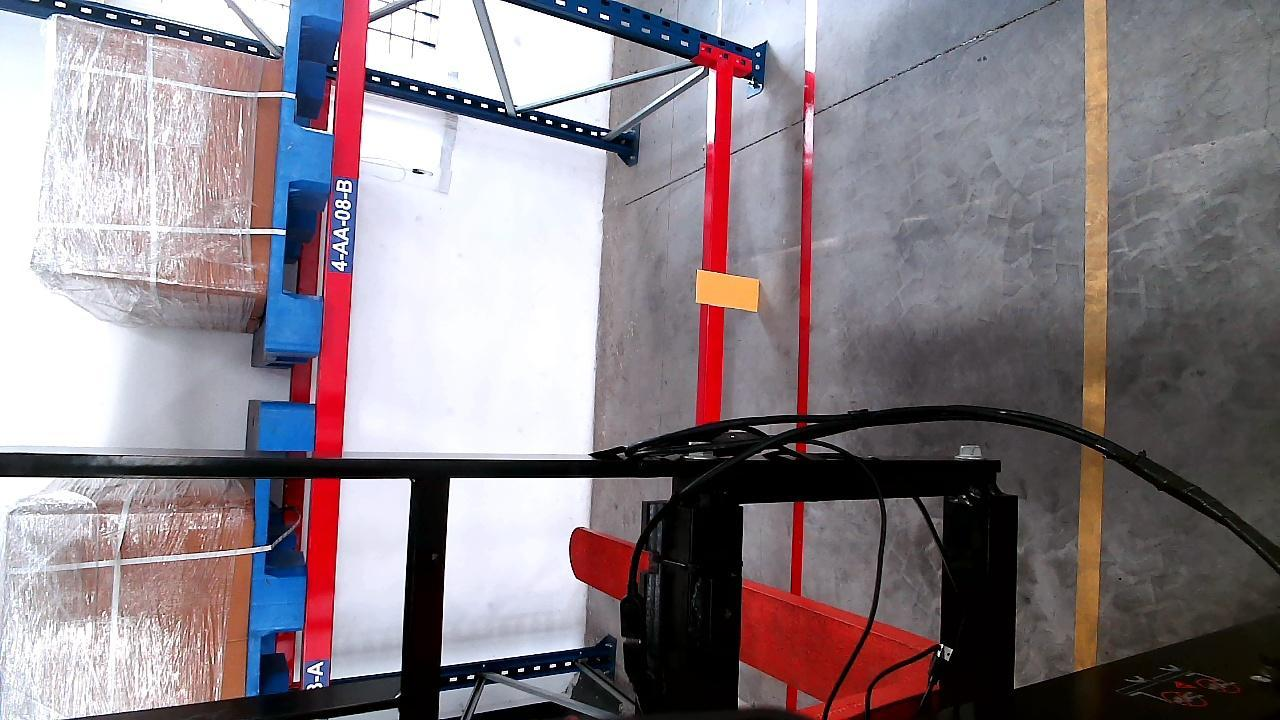red_line: (789, 2, 817, 594)
yellow_line: (1078, 1, 1109, 674)
